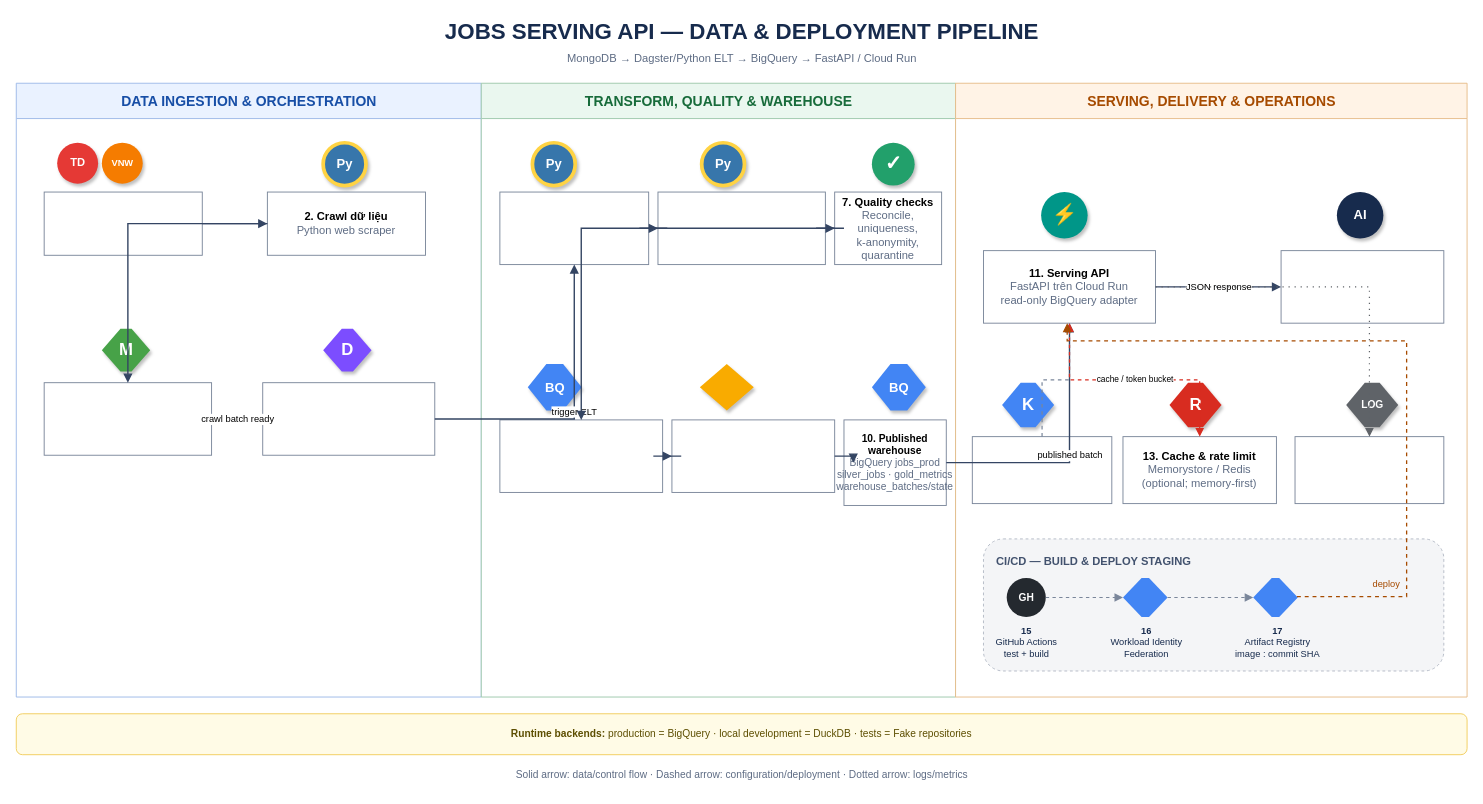
Image size: 1483x804. Some labels were removed from this diagram. Here are the shapes that lost their labels. From the top down, the centre of each, then its label:
At (x=122, y=223): "1. Nguồn tuyển dụng TopDev + VietnamWorks".
At (x=574, y=228): "5. Extract jobs LEFT JOIN job_details + source counts".
At (x=741, y=228): "6. Transform Map schema; chuẩn hoá ngày, lương, seniority, category".
At (x=1362, y=286): "14. API consumers AI team / client apps REST + X-API-Key".
At (x=727, y=388): "TX".
At (x=127, y=418): "3. Lưu dữ liệu nguồn MongoDB job_crawler trên Compute Engine VM".
At (x=348, y=418): "4. Điều phối daily batch Dagster daemon + webserver concurrency pool = 1".
At (x=581, y=455): "8. Candidate tables BigQuery WRITE_TRUNCATE silver / gold / quarantine".
At (x=753, y=455): "9. Atomic publish APPEND batch + verify INSERT catalog + CAS pointer".
At (x=1041, y=470): "12. Secrets Secret Manager API keys + page token".
At (x=1369, y=470): "18. Observability JSON logs + request_id BQ cost / timeout metrics".
At (x=1145, y=597): "ID".
At (x=1275, y=597): "AR".
